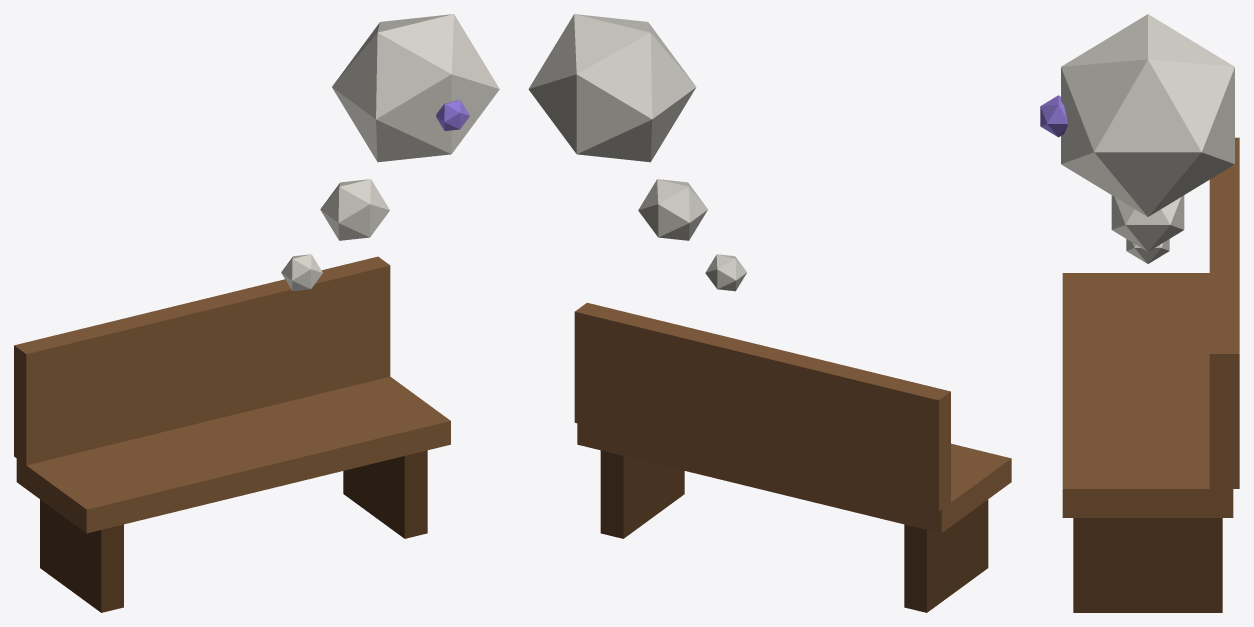
Rendered from philosophy-bench.glb.
The picture shows the model from 3 angles, left to right: view 1: azimuth 30°, elevation 25°; view 2: azimuth 150°, elevation 25°; view 3: azimuth 270°, elevation 25°; orthographic projection. The views are drawn at different scales.
Visible parts, largest first — view 1: philosophy_bench; view 2: philosophy_bench; view 3: philosophy_bench.
Part boxes in pixels (<box>): philosophy_bench: <box>14,14,499,612</box>; philosophy_bench: <box>528,14,1011,612</box>; philosophy_bench: <box>1040,14,1239,612</box>.
Size of the model in its own units: 0.2808 by 0.3042 by 0.0935.
